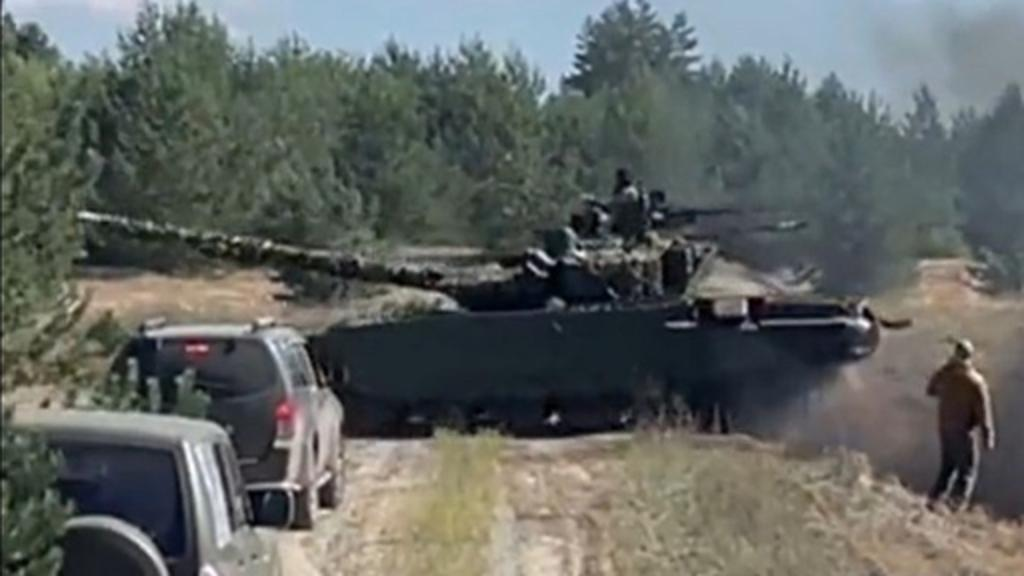CAR: (98, 314, 346, 520), (0, 406, 262, 576)
TANK: (42, 174, 888, 492)
